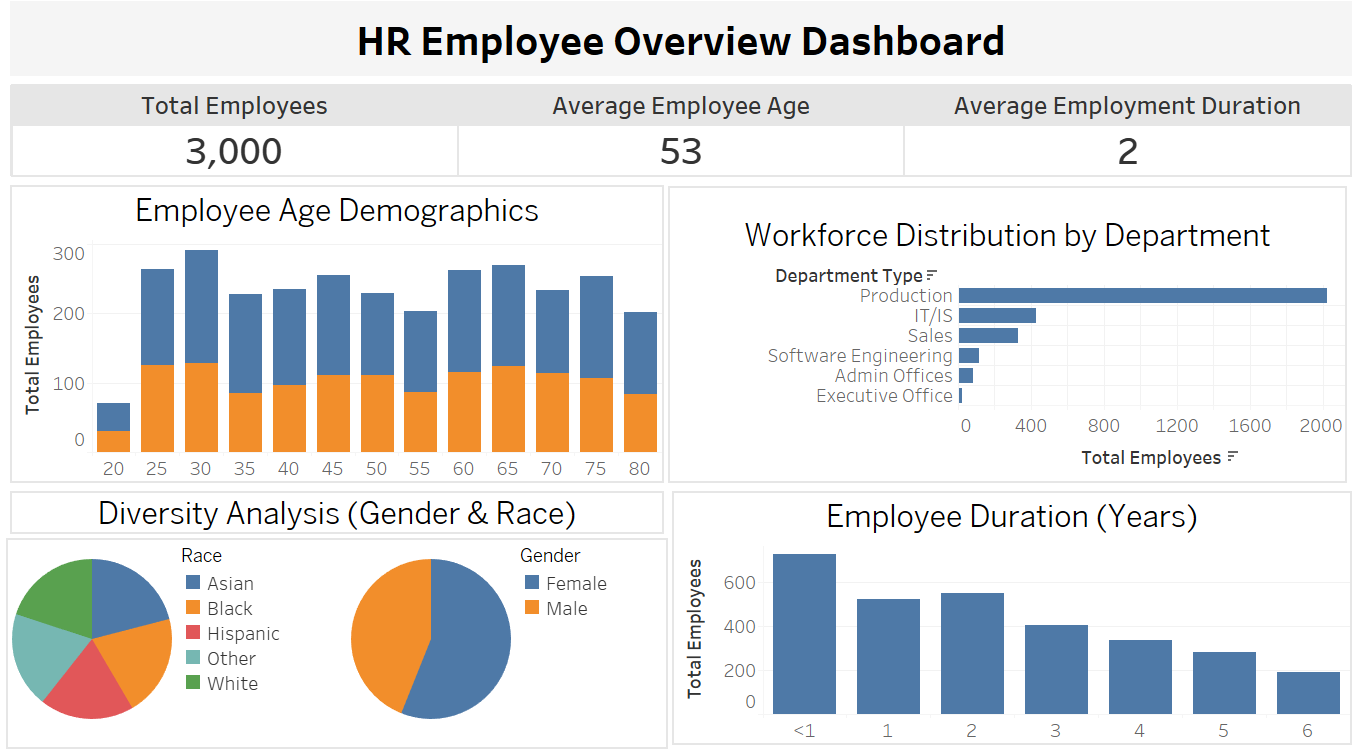

The dashboard page shown, as its layout file describes it:
{"tool":"tableau","page":{"name":"HR Employee Overview Dashboard","canvas":[1366,768],"ordinal":0},"visuals":[{"type":"title","box":[8,8,1350,83]},{"type":"worksheet","title":"KPI","mark":"Automatic","box":[8,91,1350,101]},{"type":"worksheet","title":" Workforce Age Distribution","mark":"Automatic","rows":["EmpID"],"cols":["Age (bin)"],"box":[8,192,662,306]},{"type":"worksheet","title":"Employee Count by Department","mark":"Automatic","rows":["DepartmentType"],"cols":["EmpID"],"box":[670,192,688,306]},{"type":"text","box":[8,498,662,51]},{"type":"worksheet","title":"Employment Duration","mark":"Automatic","rows":["EmpID"],"cols":["EmploymentDurationYears (bin)"],"box":[670,498,688,262]},{"type":"worksheet","title":"Race Breakdown","mark":"Pie","box":[10,551,169.3,207]},{"type":"legend","title":"Race Breakdown","param":"[federated.0wwxixi13jzl3w17su8a90kco3hk].[none:RaceDesc:nk]","box":[179.3,551,169.3,207]},{"type":"worksheet","title":"Gender Breakdown","mark":"Pie","box":[348.7,551,169.3,207]},{"type":"legend","title":" Workforce Age Distribution","param":"[federated.0wwxixi13jzl3w17su8a90kco3hk].[none:GenderCode:nk]","box":[518,551,150,207]}]}

Visuals, with their boxes in screenshot pixels (x1, y1, x2, y2), scaled from the page's 1366x768 canvas onto the 1354x751 screenshot:
title: <region>8, 8, 1346, 89</region>
"KPI" worksheet: <region>8, 89, 1346, 188</region>
" Workforce Age Distribution" worksheet: <region>8, 188, 664, 487</region>
"Employee Count by Department" worksheet: <region>664, 188, 1346, 487</region>
text: <region>8, 487, 664, 537</region>
"Employment Duration" worksheet: <region>664, 487, 1346, 743</region>
"Race Breakdown" worksheet (Pie marks): <region>10, 539, 178, 741</region>
"Race Breakdown" legend: <region>178, 539, 346, 741</region>
"Gender Breakdown" worksheet (Pie marks): <region>346, 539, 513, 741</region>
" Workforce Age Distribution" legend: <region>513, 539, 662, 741</region>
